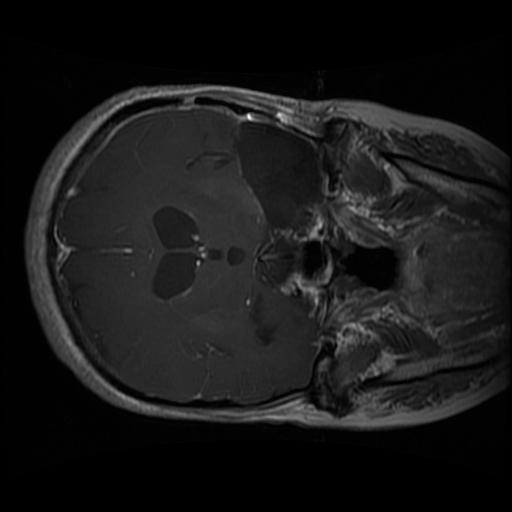glioma: (231, 119, 323, 231)
